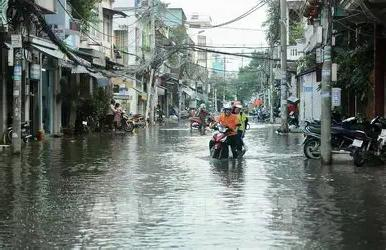ROAD_FLOODING: (19, 101, 371, 234)
